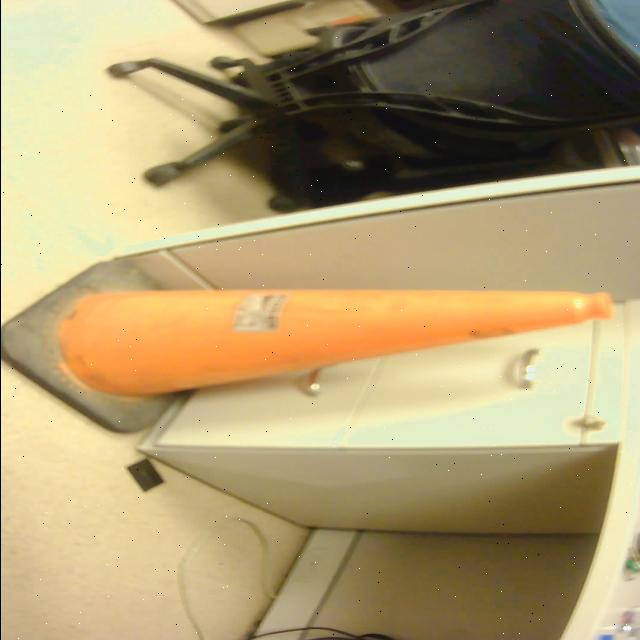traffic cone: (2, 257, 620, 438)
